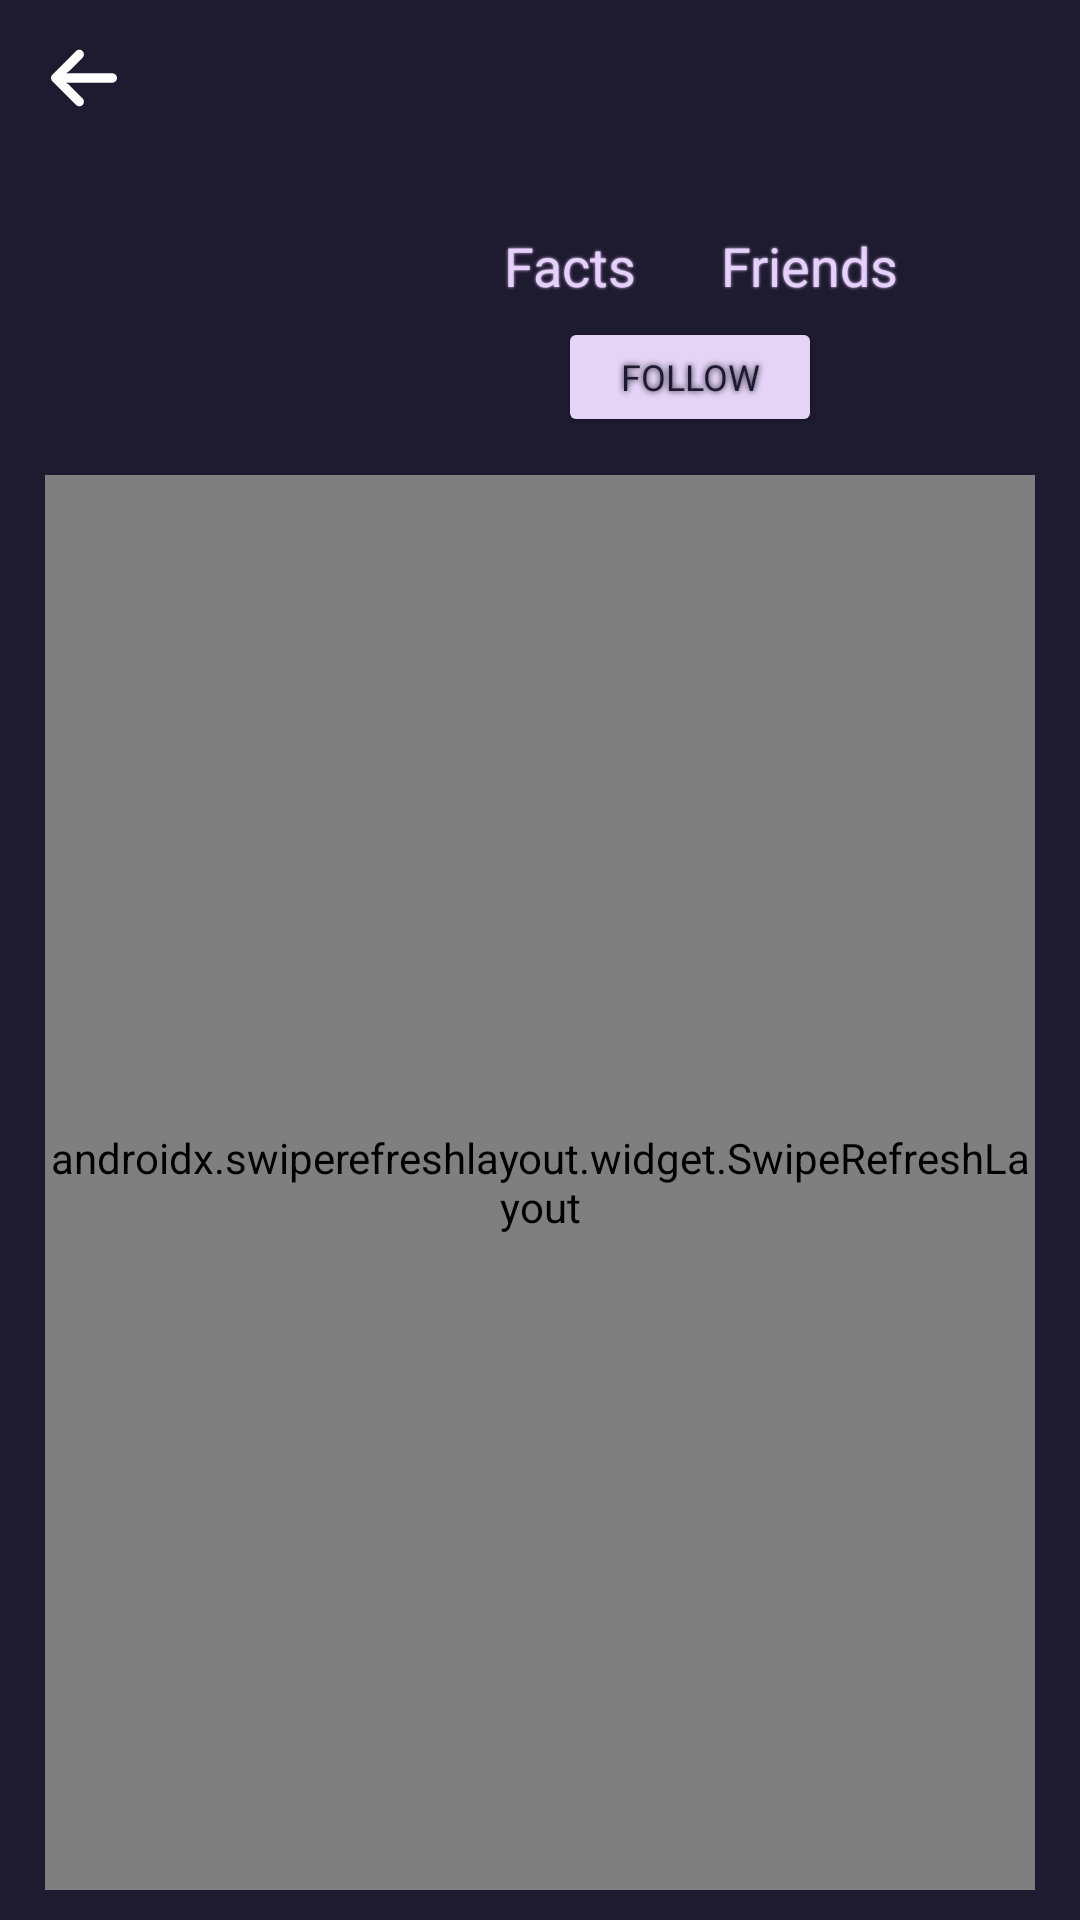

Icons on this 1080w x 1920h Android screen, each with the point to tap as [x,y]:
arrow: [84,78]
